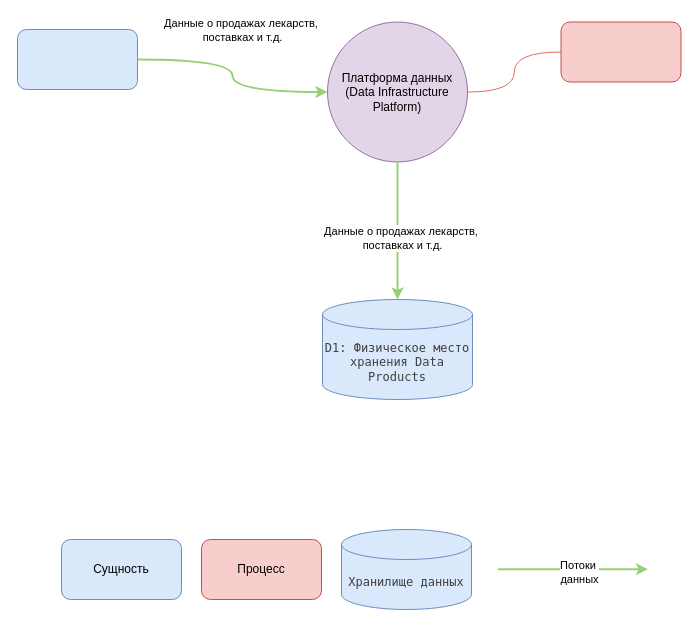
Some shapes in this 699 by 627 pixel diagram are drawn without their labels. The centre of each missing label's shape, as x and y in pixels:
2.0 Получение данных с фарм. компаний: the point at 620,51
Новые бизнесы (фарм. компании): the point at 77,59
